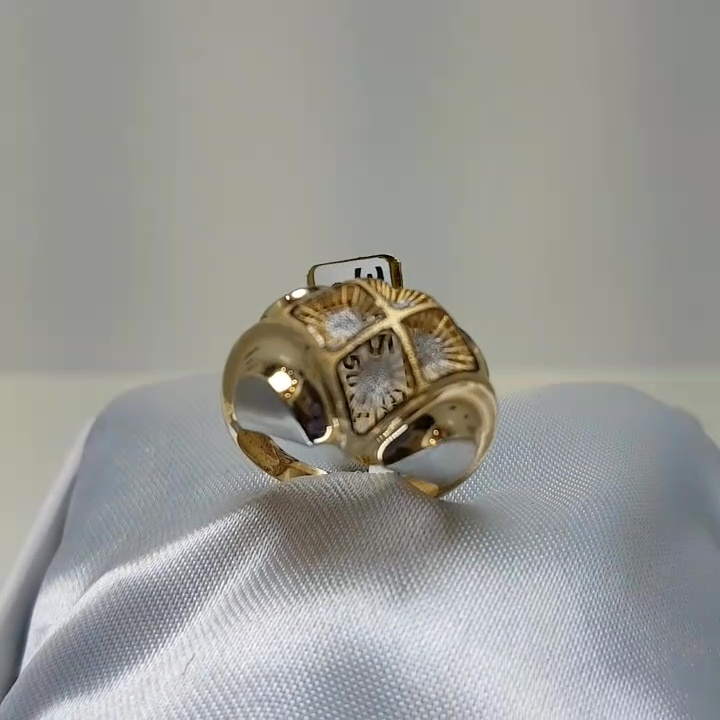Ring 2: (194, 256, 509, 520)
